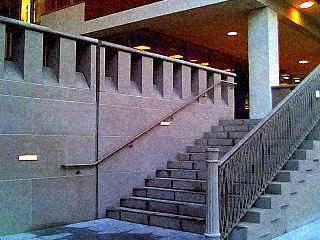Escaleras: (119, 116, 313, 237)
